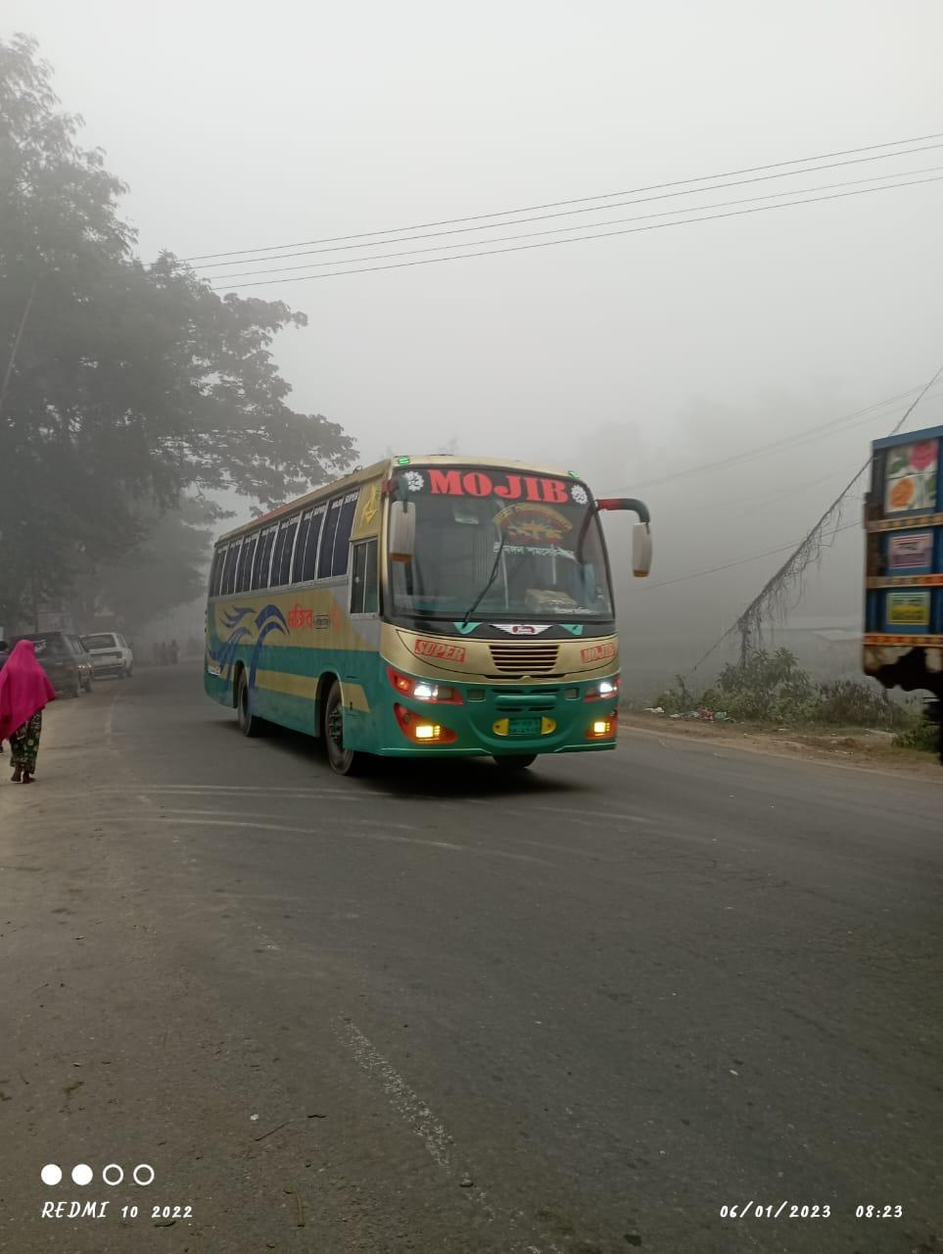Bus: (168, 446, 664, 787)
Car: (20, 622, 104, 705), (79, 619, 145, 682)
